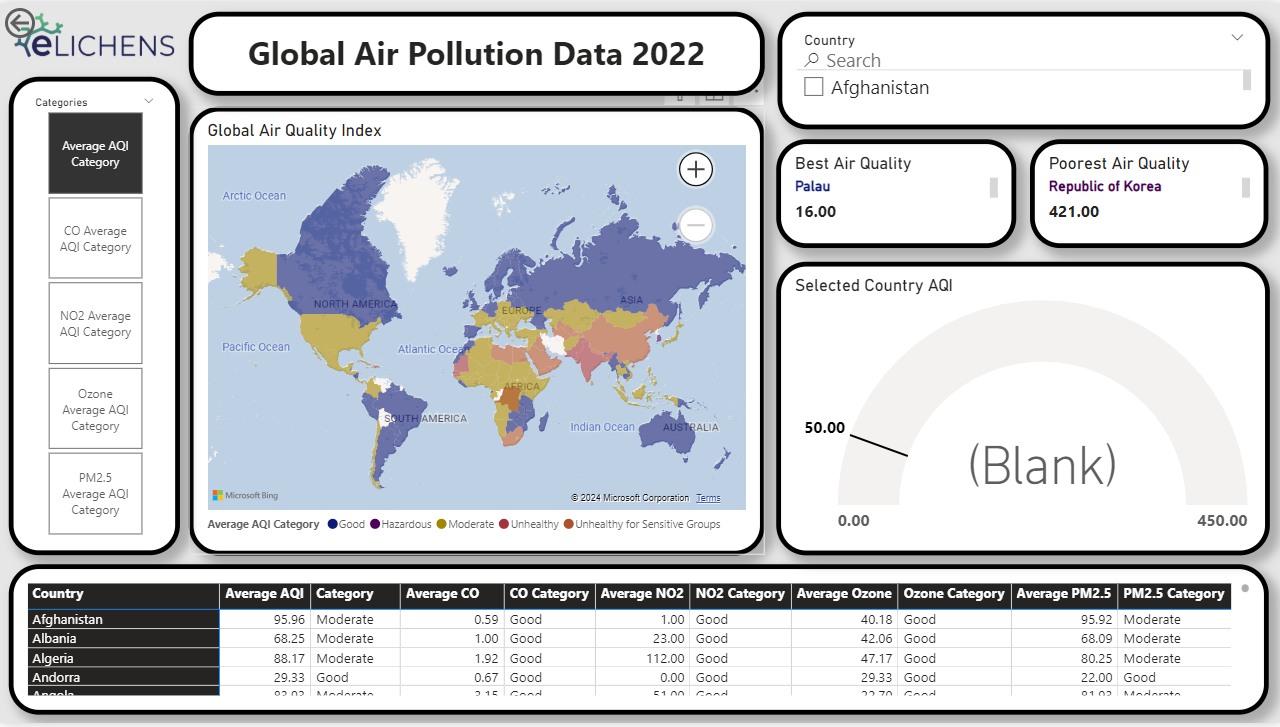

The page's visual inventory and layout, read from the dashboard file:
{"tool":"powerbi","page":{"name":"Page 1","canvas":[1280,720],"ordinal":0},"visuals":[{"type":"filledMap","title":"Global Air Quality Index","fields":{"Series":["global air pollution dataset.Average AQI Category"],"Category":["global air pollution dataset.Country"]},"box":[188.8,103.8,576.2,448.8],"z":0},{"type":"textbox","box":[188.8,8.8,576.2,83.8],"z":1000},{"type":"slicer","fields":{"Values":["Catergories.Catergories"]},"box":[8.8,73.8,171.2,478.8],"z":2000},{"type":"pivotTable","fields":{"Rows":["global air pollution dataset.Country"],"Values":["Avg(global air pollution dataset.Average AQI)","Min(global air pollution dataset.Average AQI Category)","Avg(global air pollution dataset.CO Country Average)","Min(global air pollution dataset.CO Average AQI Category)","Sum(global air pollution dataset.NO2 Country Average)","Min(global air pollution dataset.NO2 Average AQI Category)","Avg(global air pollution dataset.Ozone Country Average)","Min(global air pollution dataset.Ozone Average AQI Category)","Avg(global air pollution dataset.PM2.5 Country Average)","Min(global air pollution dataset.PM2.5 Average AQI Category)"]},"box":[8.8,561.2,1260,150],"z":3000},{"type":"image","box":[8.8,0,171.2,63.8],"z":4000},{"type":"actionButton","box":[0,0,100,40],"z":5000},{"type":"multiRowCard","title":"Poorest Air Quality","fields":{"Values":["Max(global air pollution dataset.Average AQI)","global air pollution dataset.Country"]},"box":[1033.8,135,235,107.5],"z":6000},{"type":"multiRowCard","title":"Best Air Quality","fields":{"Values":["Min(global air pollution dataset.Average AQI)","global air pollution dataset.Country"]},"box":[777.5,135,241.2,108.8],"z":6001},{"type":"gauge","fields":{"Y":["AQI Category.Selected Country AQI"]},"box":[776.2,258.8,493.8,293.8],"z":6002},{"type":"slicer","fields":{"Values":["global air pollution dataset.Country"]},"box":[777.5,8.8,492.5,117.5],"z":6003}]}

Visuals, with their boxes in screenshot pixels (x1, y1, x2, y2), scaled from the page's 1280x720 canvas onto the 1280x727 screenshot:
"Global Air Quality Index" filledMap: x1=189, y1=105, x2=765, y2=558
textbox: x1=189, y1=9, x2=765, y2=94
slicer - Catergories.Catergories: x1=9, y1=75, x2=180, y2=558
pivotTable - global air pollution dataset.Country x Avg(global air pollution dataset.Average AQI): x1=9, y1=567, x2=1269, y2=718
image: x1=9, y1=0, x2=180, y2=64
actionButton: x1=0, y1=0, x2=100, y2=40
"Poorest Air Quality" multiRowCard: x1=1034, y1=136, x2=1269, y2=245
"Best Air Quality" multiRowCard: x1=778, y1=136, x2=1019, y2=246
gauge - AQI Category.Selected Country AQI: x1=776, y1=261, x2=1270, y2=558
slicer - global air pollution dataset.Country: x1=778, y1=9, x2=1270, y2=128
